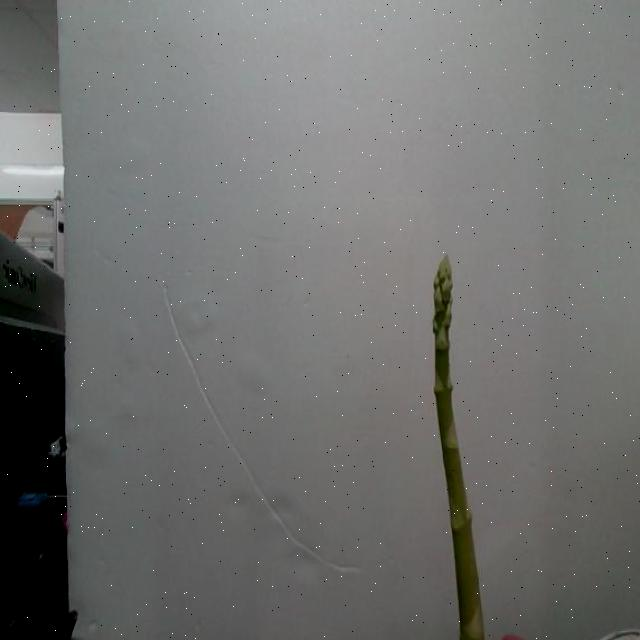aspargus: (434, 258, 489, 640)
